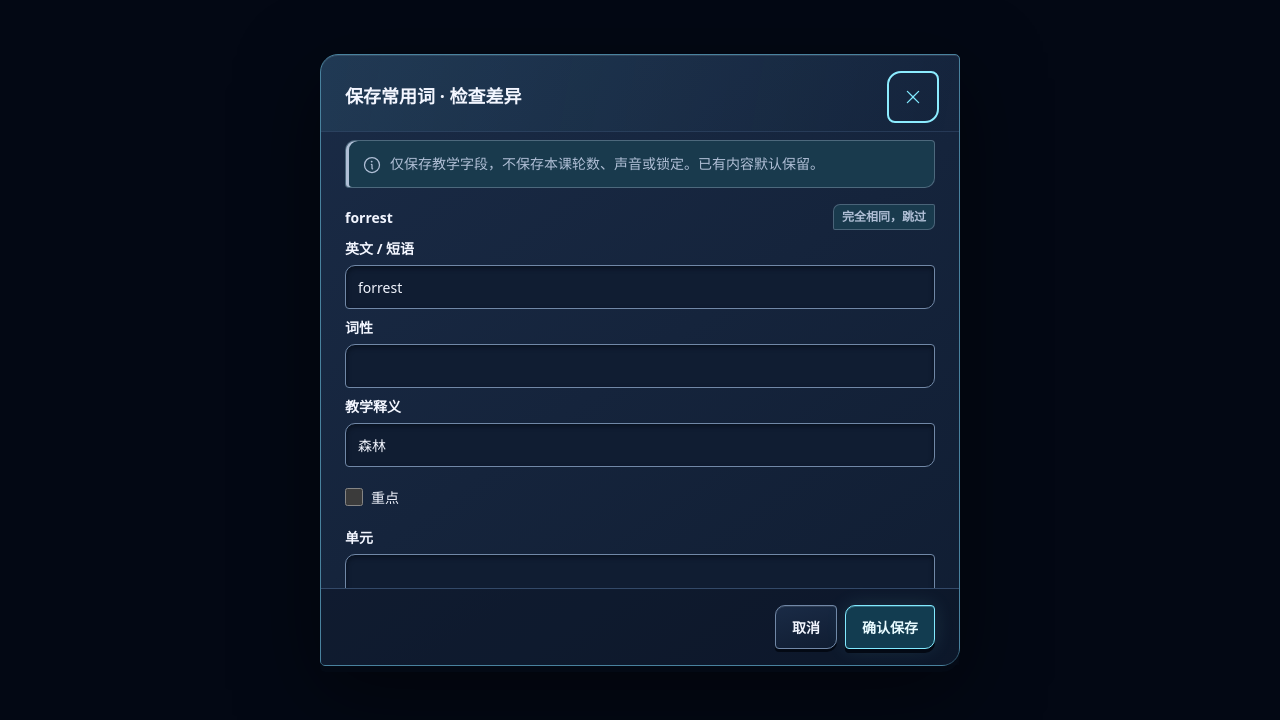
Test: 直接编辑既有常用词时可改正英文，并保留原条目标识
Replace the text in the field labelled "英文 / 短语" with "forest": [640, 287] box [345,265,935,309]
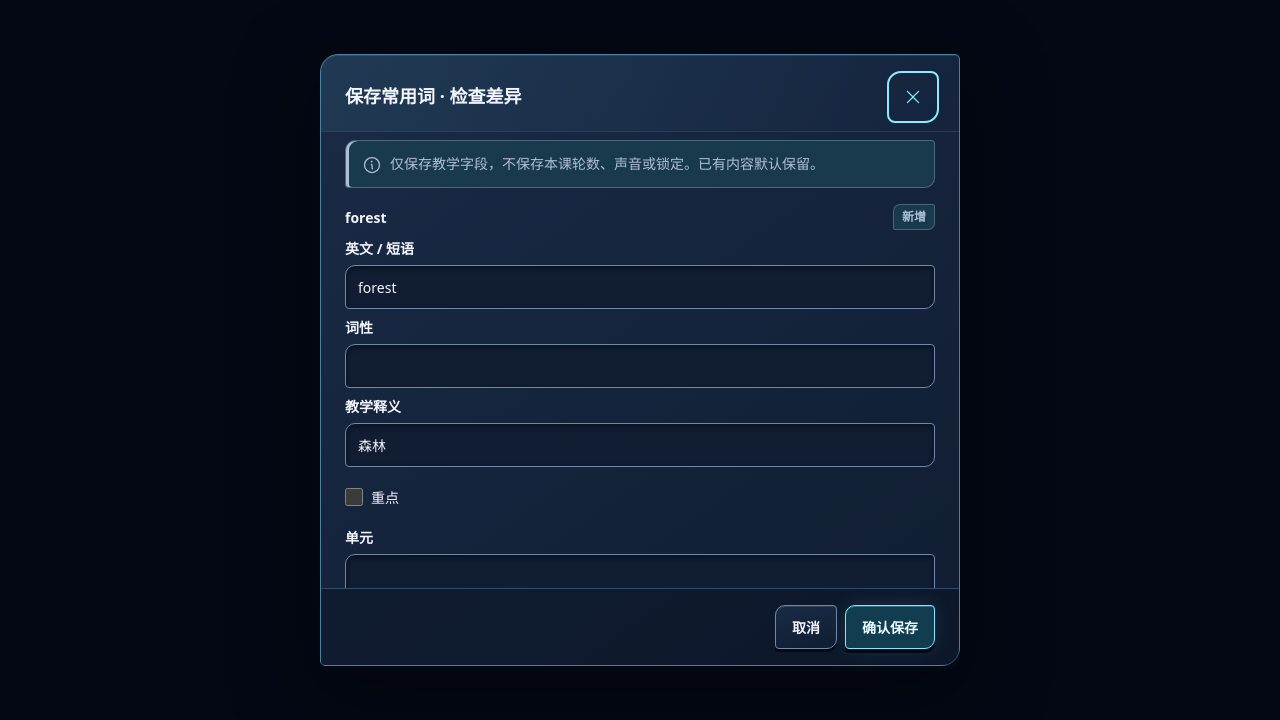
Click the button "确认保存": [890, 627] box [845,605,935,649]
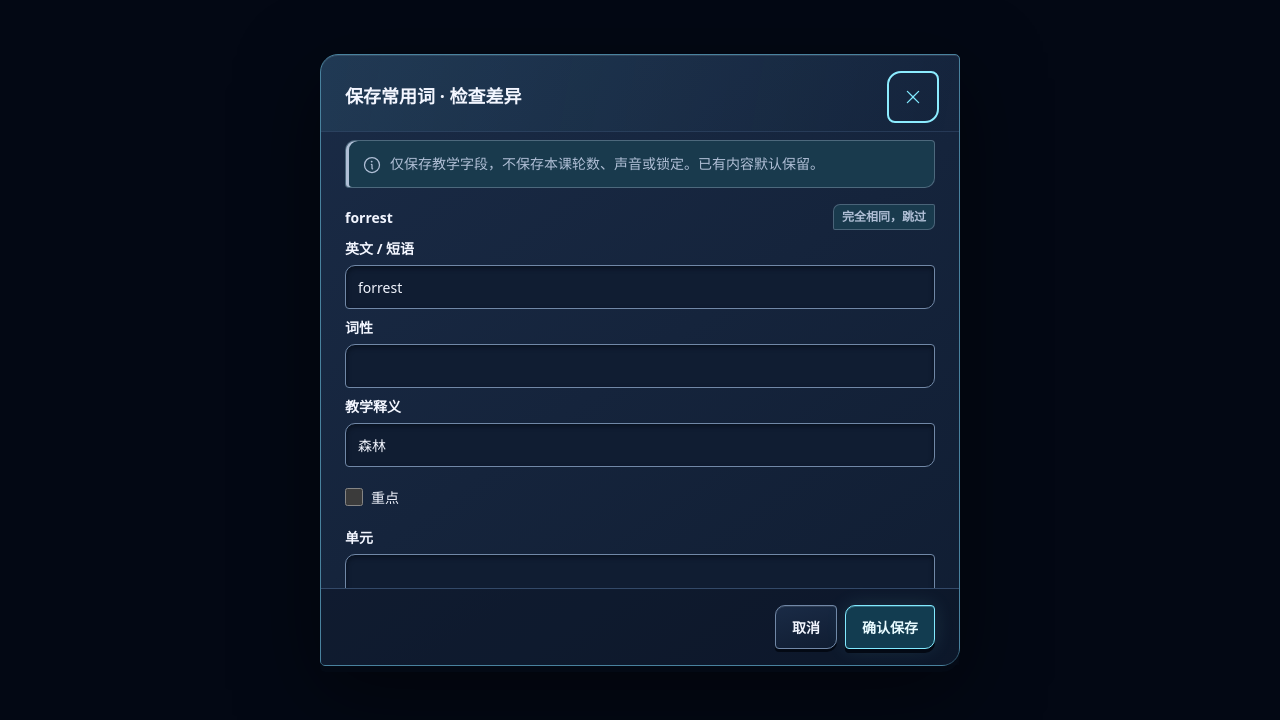
Result: the text "forrest" is shown at [345,206,393,228]
